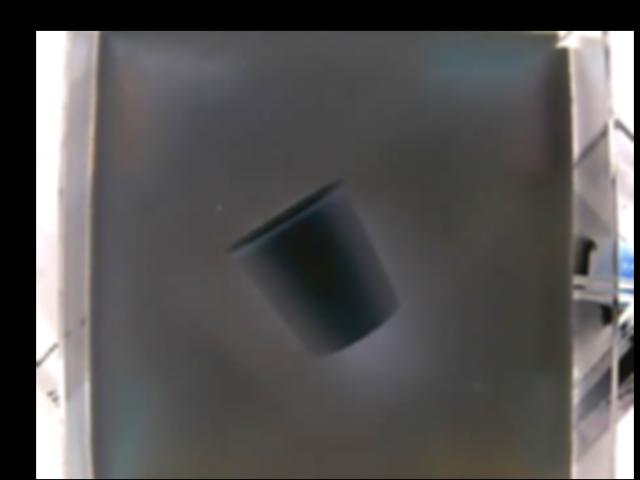Cup: (230, 178, 400, 358)
